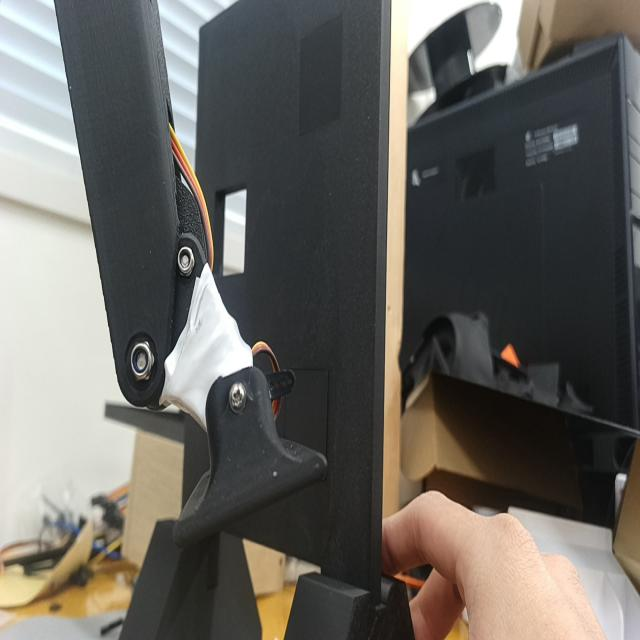Obstacle: (216, 183, 247, 275)
Wall: (196, 0, 382, 595)
